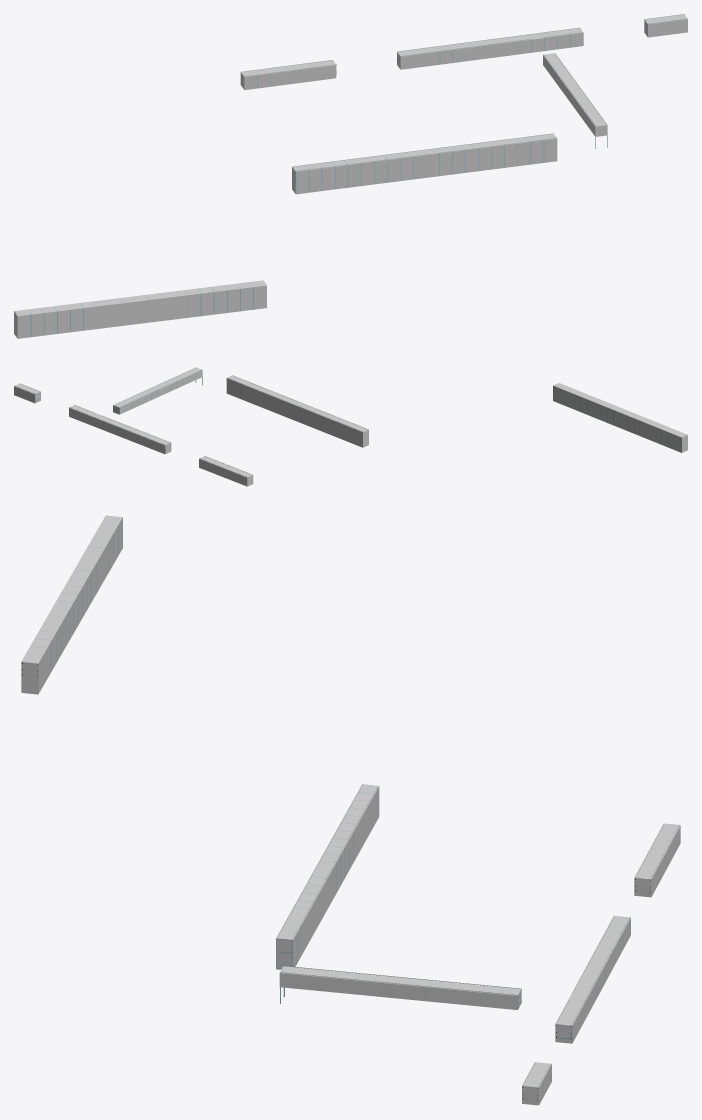
File: s_island_refinery_lattices.dae
3 renders of one model, top to bottom at view 1: azimuth 30°, elevation 25°; view 2: azimuth 150°, elevation 25°; view 3: azimuth 270°, elevation 25°, orthographic. The views are drawn at different scales.
Parts seen in each view (by area): view 1: Colmesh-1, refinery_lattices; view 2: Colmesh-1, refinery_lattices; view 3: Colmesh-1, refinery_lattices.
Part boxes in pixels (x1,y1,x2,y2): Colmesh-1: (14,14,687,338); refinery_lattices: (14,14,687,337); Colmesh-1: (14,367,687,486); refinery_lattices: (15,367,681,476); Colmesh-1: (21,515,680,1105); refinery_lattices: (21,515,680,1100).
Bounding box in the file's own units: 559 × 282 × 24.07.
